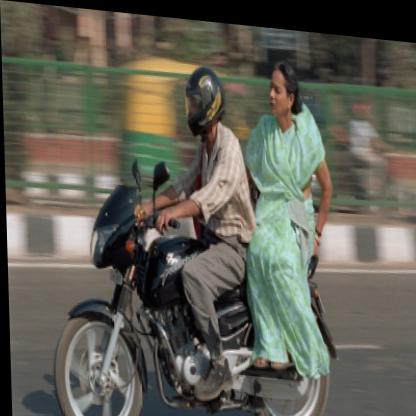With Helmet: (179, 56, 231, 135)
